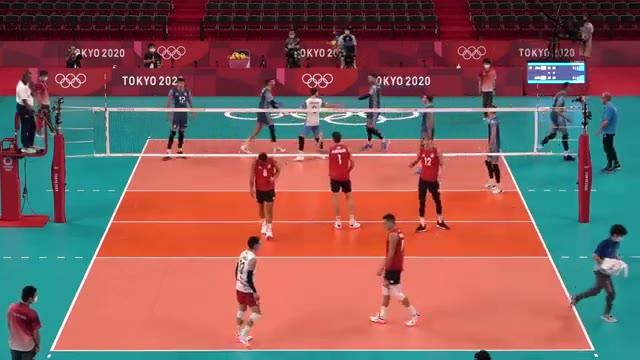ball: (326, 37, 339, 52)
